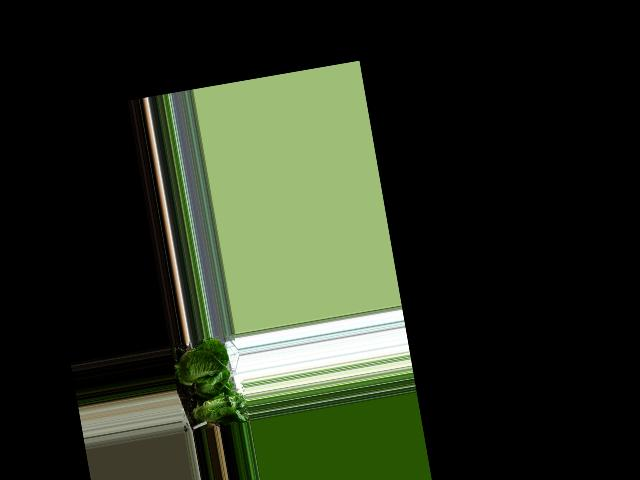lettuce: (183, 389, 244, 428)
